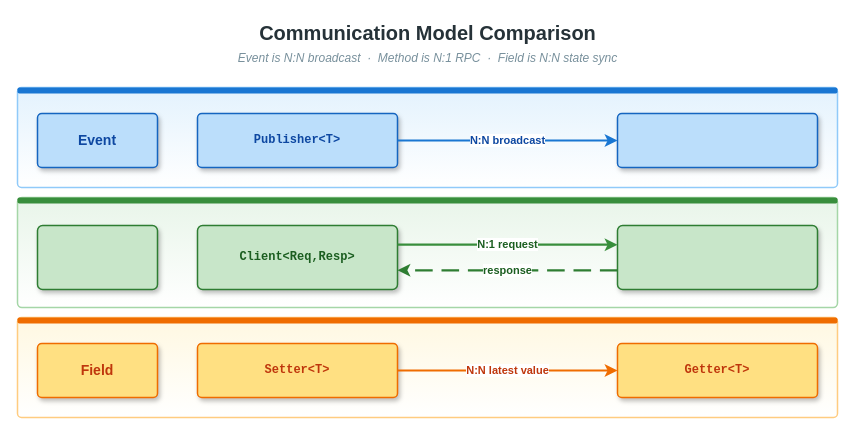
This 856x435 diagram has some shape labels left out. The centre of each missing label's shape, as x and y in pixels:
"Method" goes at point 98,258.
"Server<Req,Resp>" goes at point 718,258.
"Subscriber<T>" goes at point 718,141.
